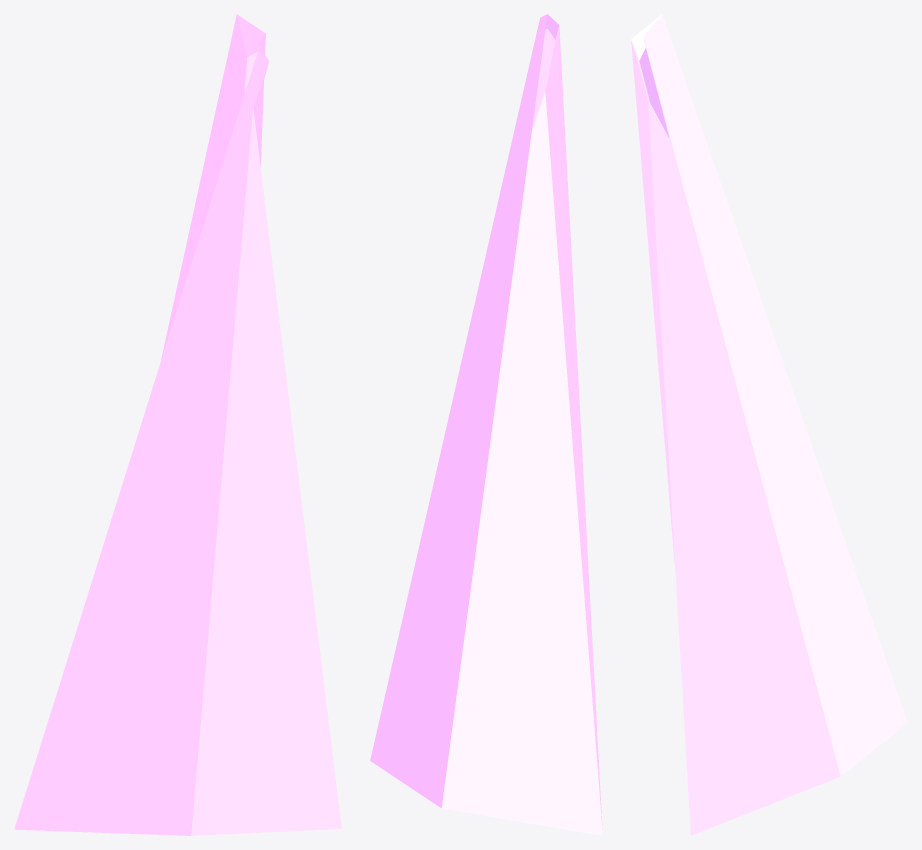
File: TC_ENV_AlienShard_Medium_V1.glb
The picture shows the model from 3 angles, left to right: view 1: azimuth 30°, elevation 25°; view 2: azimuth 150°, elevation 25°; view 3: azimuth 270°, elevation 25°; orthographic projection. The views are drawn at different scales.
Visible parts, largest first — view 1: TC_ENV_AlienShard_Medium_V1; view 2: TC_ENV_AlienShard_Medium_V1; view 3: TC_ENV_AlienShard_Medium_V1.
Boxes of the visible parts, left/top/right/bottom form: TC_ENV_AlienShard_Medium_V1: left=14, top=14, right=341, bottom=835; TC_ENV_AlienShard_Medium_V1: left=370, top=14, right=602, bottom=835; TC_ENV_AlienShard_Medium_V1: left=631, top=14, right=907, bottom=835.
Bounding box in the file's own units: 0.7106 × 2.2 × 0.719.
